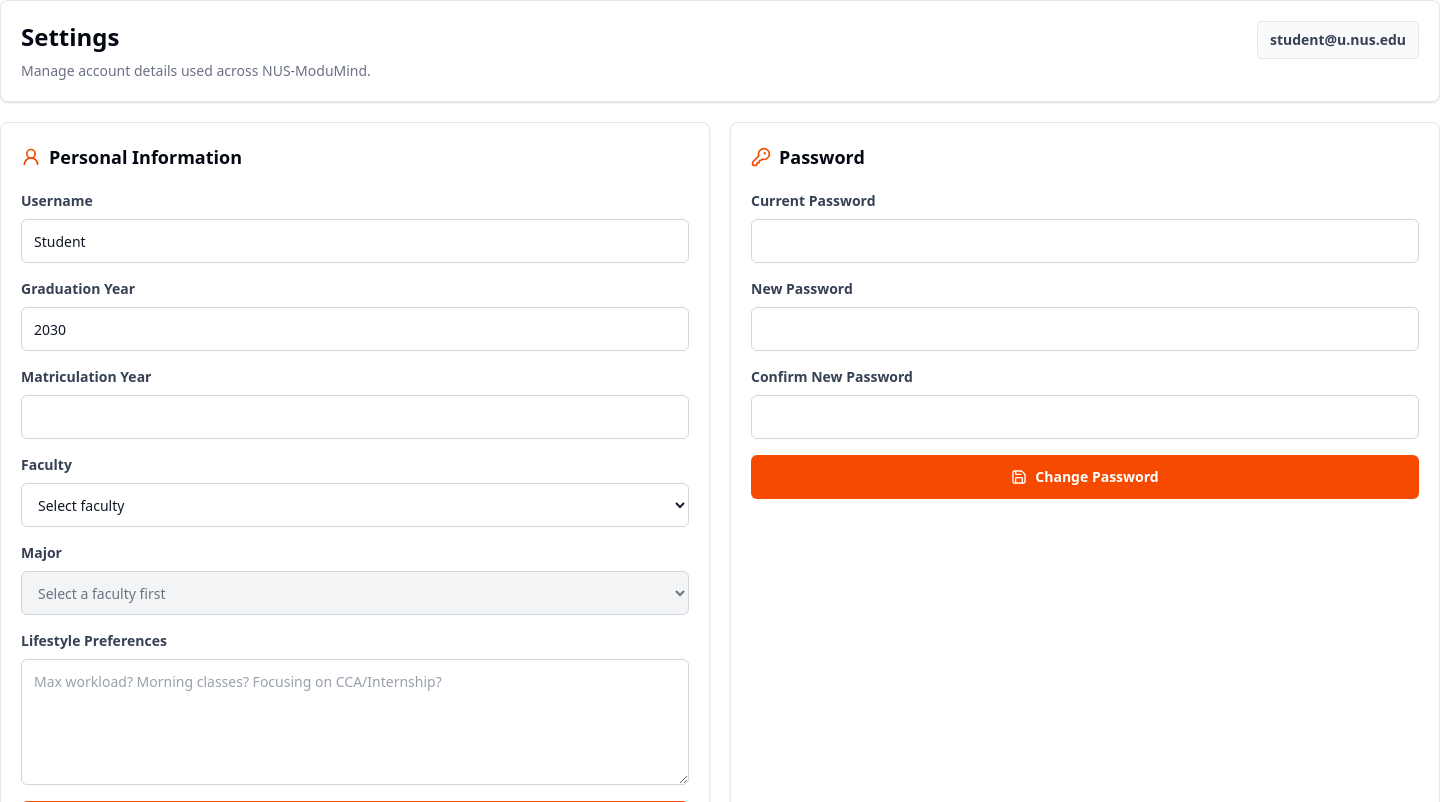
it: SettingsPage › requires a faculty before enabling the major selection
expect the dropdown labelled "Major" is disabled: met, box [21,571,689,615]
Select "School of Computing" in the dropdown labelled "Faculty" at {"x": 355, "y": 505}, box [21,483,689,527]
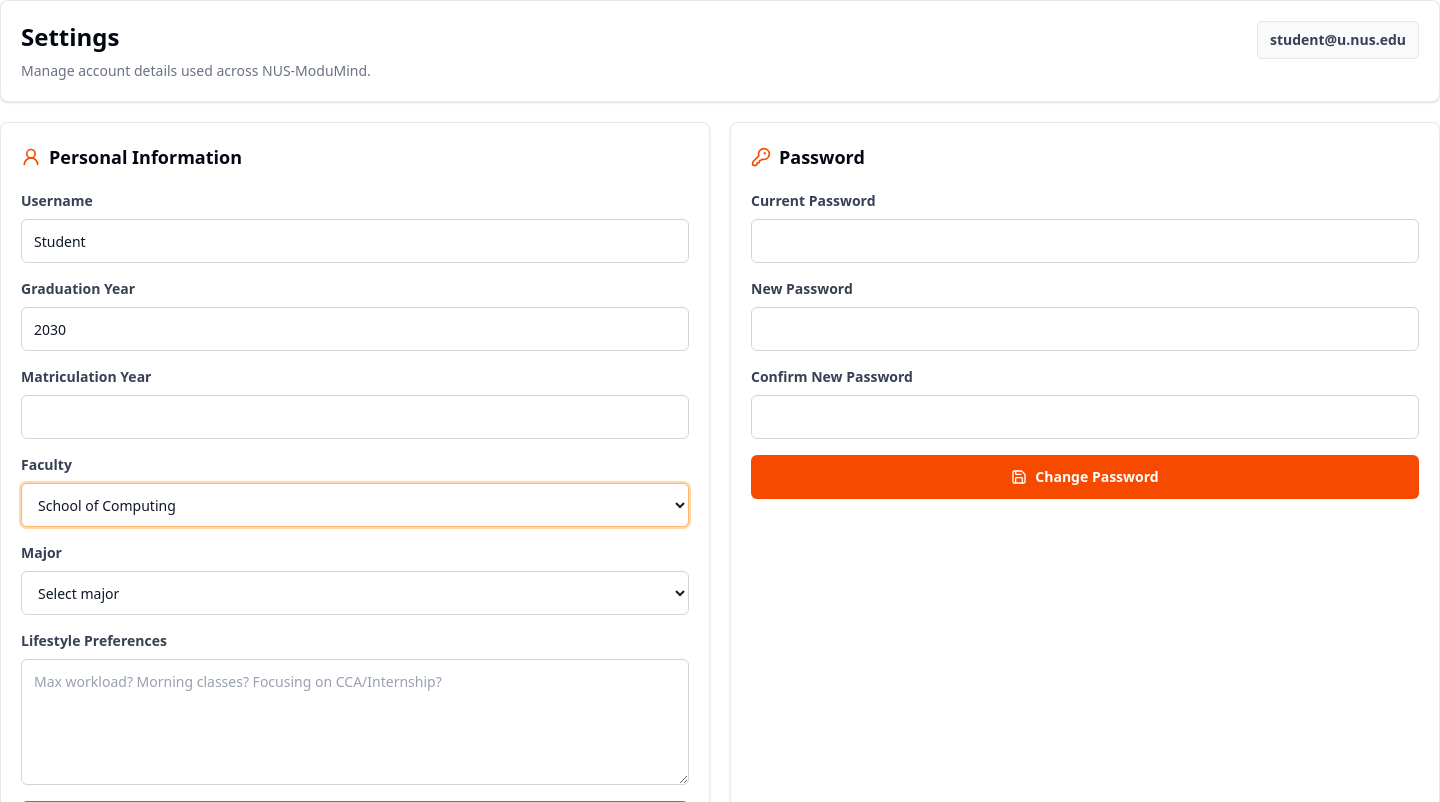
expect the dropdown labelled "Major" is enabled: met, box [21,571,689,615]
